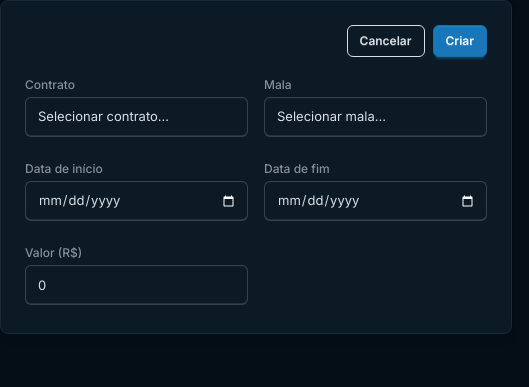
Test: shows error when end date is before start date
Select "Cliente A" in the dropdown below "Contrato". click: [136, 117]
box: [25, 97, 248, 137]
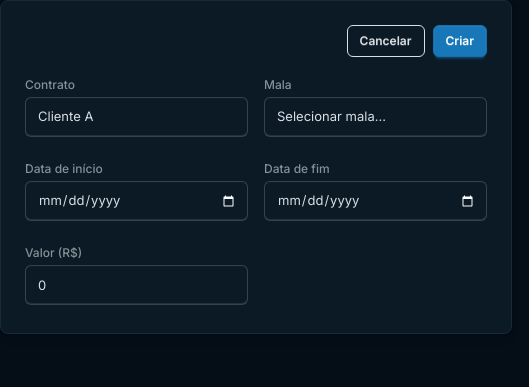
Select "Mala X — Modelo X" in the dropdown below "Mala". click: [376, 117]
box: [264, 97, 487, 137]
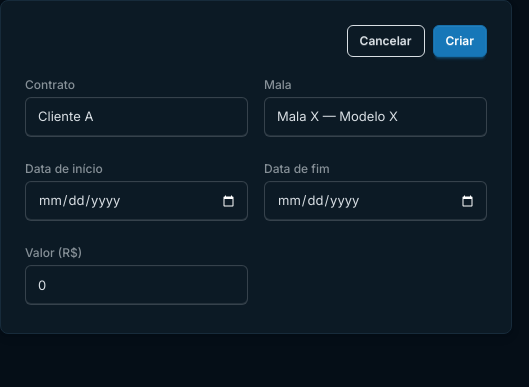
Type "2026-02-10" into the date field below "Data de início". click: [136, 201]
box: [25, 181, 248, 221]
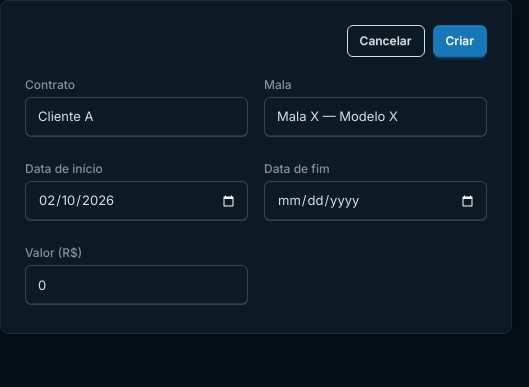
Type "2026-02-01" into the date field below "Data de fim". click: [376, 201]
box: [264, 181, 487, 221]
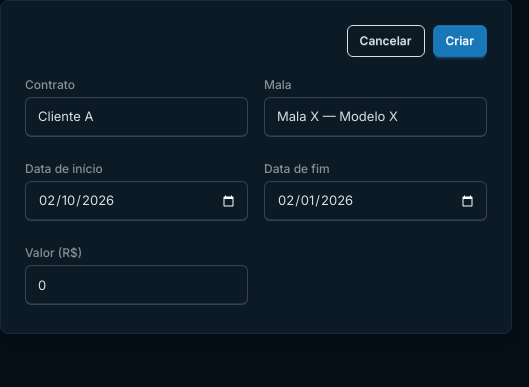
Click the button "Criar". click: [460, 41]
box: [432, 25, 487, 57]
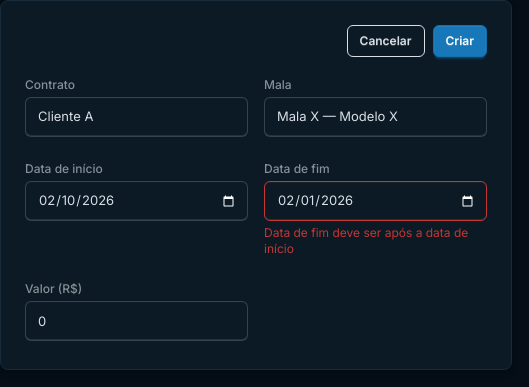
Check: the text "Data de fim deve ser após a data de início" is shown, box [264, 225, 487, 257]
